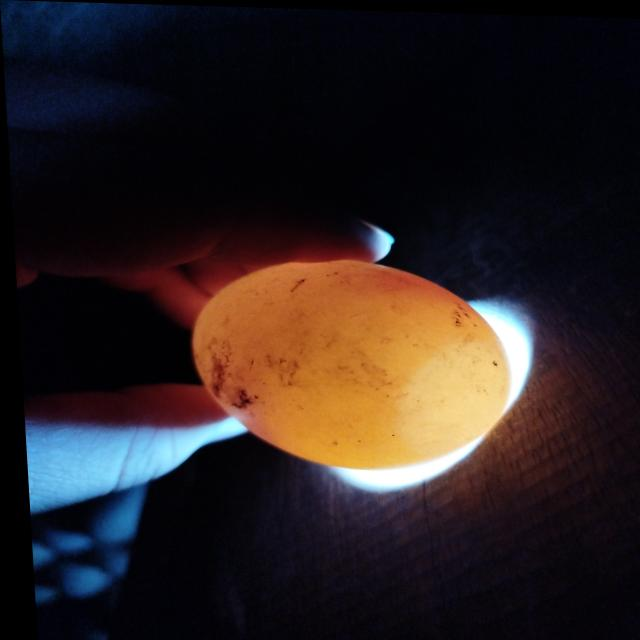Camara de Ar: (393, 342, 506, 453)
